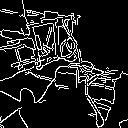cube: (52, 61, 82, 91)
